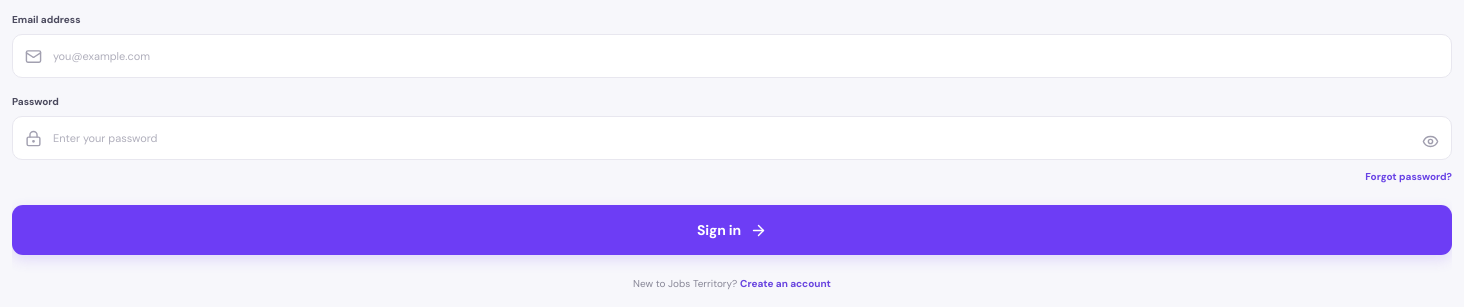
Test case: LoginForm › calls the auth action and redirects after success
Type "candidate@example.com" into the field labelled "Email address" at (732, 56), box [12,34,1452,78]
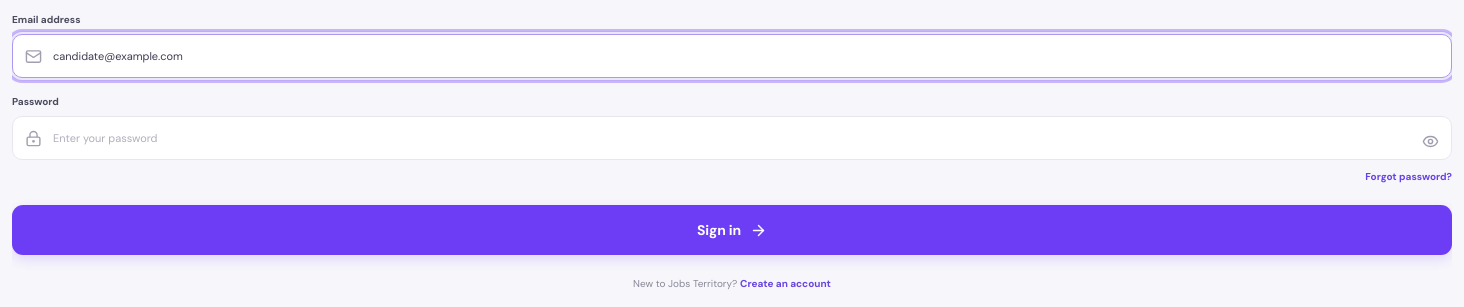
Type "StrongPassword123" into the password field labelled "Password" at (732, 138), box [12,116,1452,160]
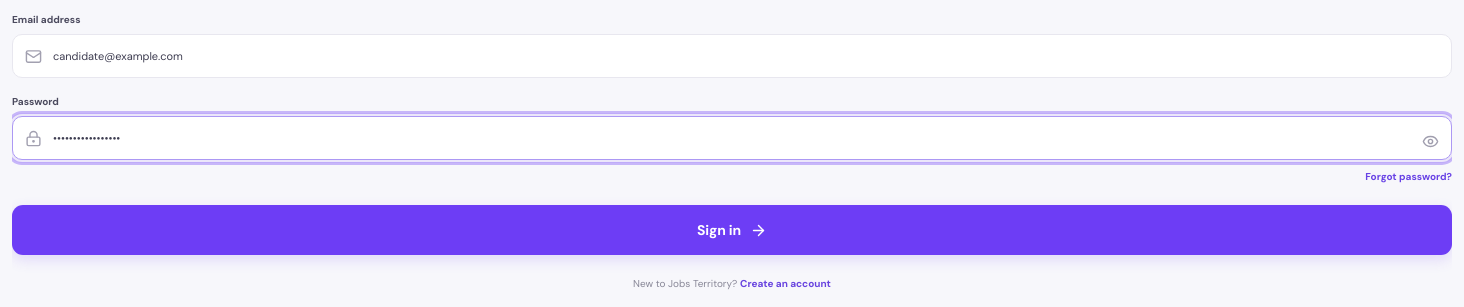
Click the button "Sign in" at (732, 230), box [12,205,1452,255]
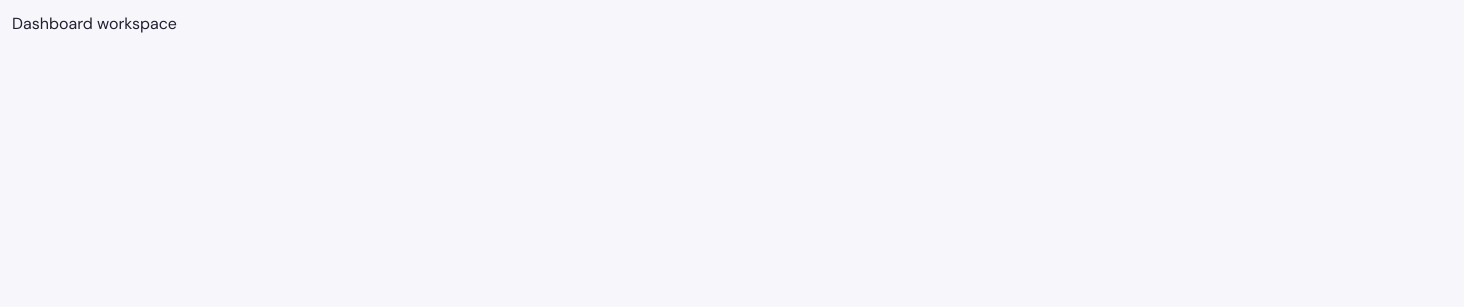
Check: the text "Dashboard workspace" is shown, box [12,13,177,34]
